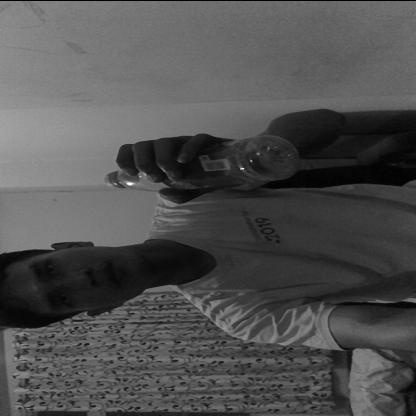plastic_bottles: (103, 134, 306, 190)
